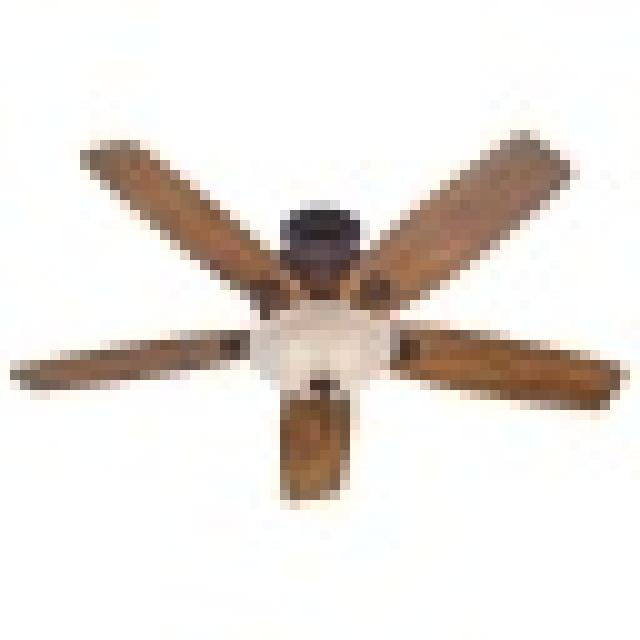Bulb: (21, 120, 631, 507)
